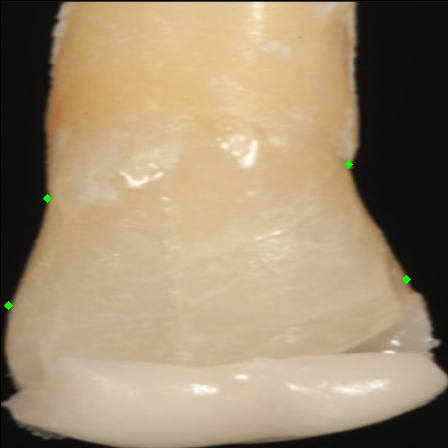coin_1: (348, 164, 368, 184)
coin_2: (406, 279, 426, 299)
coin_3: (47, 198, 67, 218)
coin_4: (8, 305, 28, 325)
